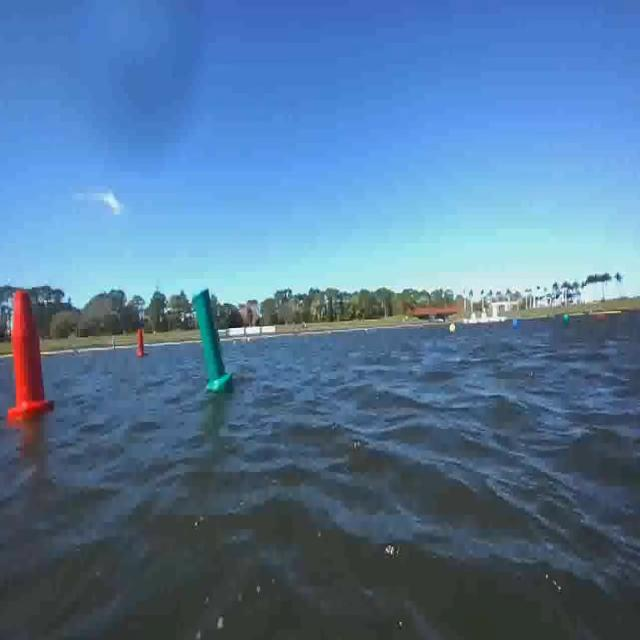blue-buoy: (513, 317, 522, 331)
green-buoy: (563, 314, 569, 324)
green-column-buoy: (192, 287, 234, 394)
red-column-buoy: (5, 289, 52, 420), (137, 327, 146, 357)
yellow-buoy: (449, 320, 458, 334)
